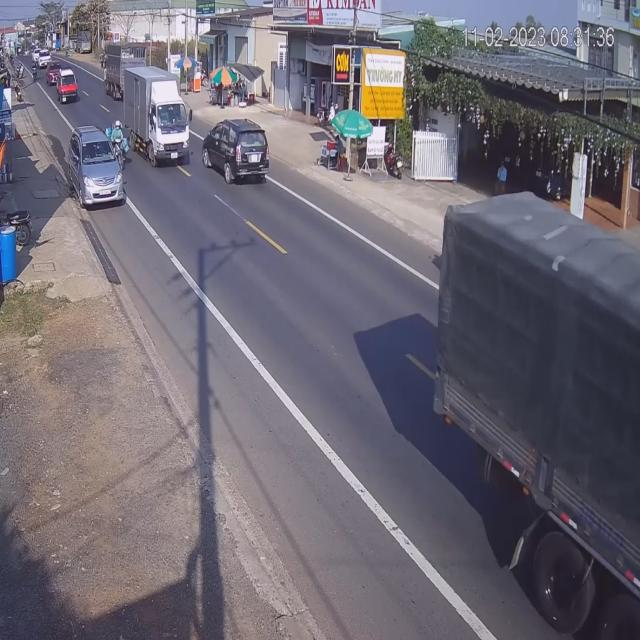car: (67, 126, 126, 208), (203, 118, 269, 188), (56, 62, 78, 103)
truck: (435, 198, 638, 640), (130, 72, 194, 171), (104, 46, 131, 102)
